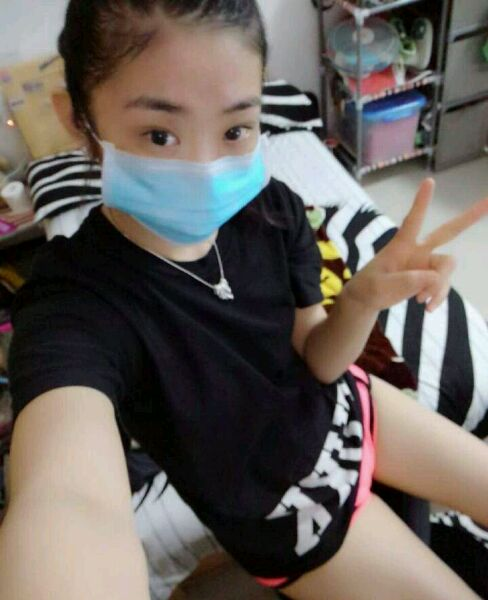face_mask: (96, 8, 265, 265)
